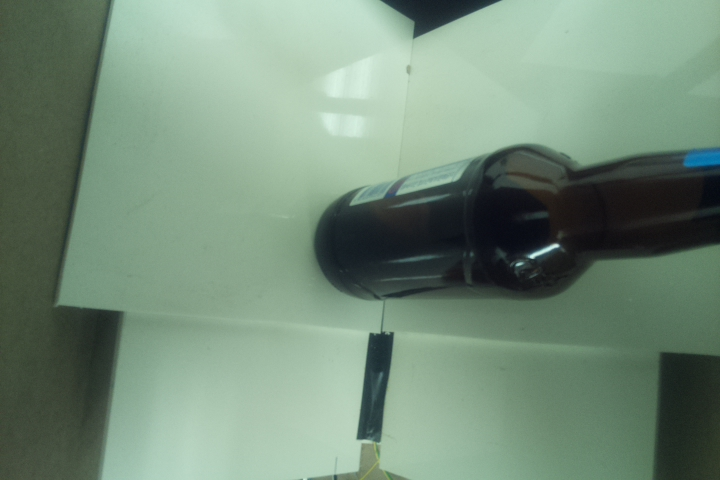makju: (314, 139, 720, 303)
